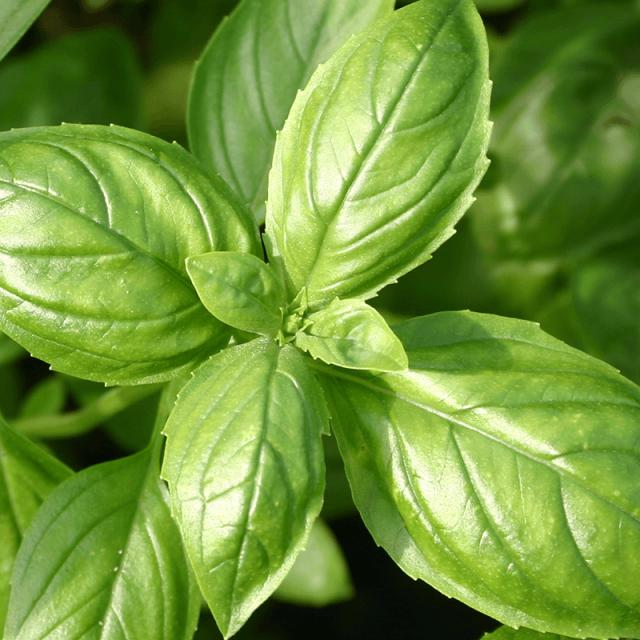Sweet Basil: (2, 0, 640, 639)
